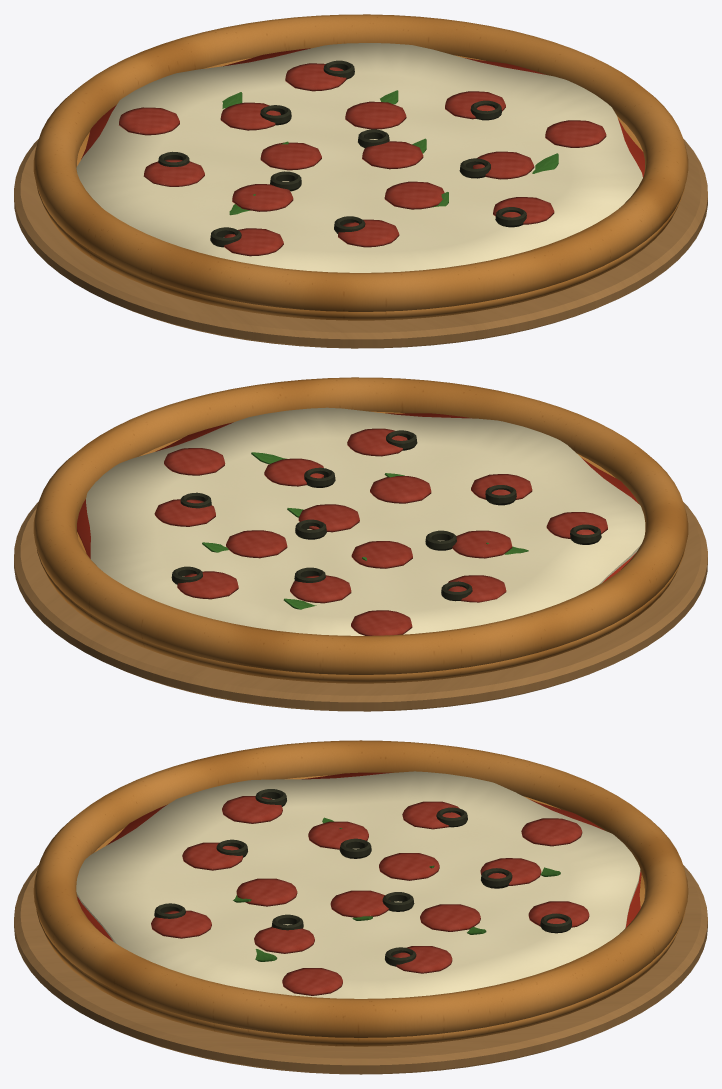
File: pizza.glb
The picture shows the model from 3 angles, top to bottom: view 1: azimuth 30°, elevation 25°; view 2: azimuth 150°, elevation 25°; view 3: azimuth 270°, elevation 25°; orthographic projection.
Parts seen in each view (by area): view 1: Melted uneven mozzarella layer, Puffy browned outer pizza crust, Round finite hardwood pizza board, Pizza baked bread base, Spread tomato sauce layer, Pepperoni round 4, Pepperoni round 15, Pepperoni round 14, Pepperoni round 2, Pepperoni round 5, Pepperoni round 3, Pepperoni round 1 (+8 smaller); view 2: Melted uneven mozzarella layer, Puffy browned outer pizza crust, Round finite hardwood pizza board, Pizza baked bread base, Spread tomato sauce layer, Pepperoni round 4, Pepperoni round 3, Pepperoni round 14, Pepperoni round 2, Pepperoni round 5, Pepperoni round 15, Pepperoni round 7 (+10 smaller); view 3: Melted uneven mozzarella layer, Puffy browned outer pizza crust, Round finite hardwood pizza board, Pizza baked bread base, Spread tomato sauce layer, Pepperoni round 15, Pepperoni round 4, Pepperoni round 14, Pepperoni round 2, Pepperoni round 3, Pepperoni round 1, Pepperoni round 6 (+10 smaller).
Boxes of the visible parts, left/top/right/bottom form: Melted uneven mozzarella layer: left=76, top=43, right=642, bottom=272; Puffy browned outer pizza crust: left=33, top=14, right=688, bottom=311; Round finite hardwood pizza board: left=14, top=139, right=707, bottom=348; Pizza baked bread base: left=36, top=55, right=685, bottom=320; Spread tomato sauce layer: left=81, top=48, right=644, bottom=177; Pepperoni round 4: left=345, top=101, right=406, bottom=129; Pepperoni round 15: left=119, top=107, right=179, bottom=135; Pepperoni round 14: left=545, top=120, right=606, bottom=147; Pepperoni round 2: left=260, top=142, right=321, bottom=170; Pepperoni round 5: left=232, top=184, right=293, bottom=211; Pepperoni round 3: left=384, top=181, right=444, bottom=209; Pepperoni round 1: left=362, top=141, right=423, bottom=169; Melted uneven mozzarella layer: left=86, top=407, right=645, bottom=635; Puffy browned outer pizza crust: left=33, top=377, right=688, bottom=674; Round finite hardwood pizza board: left=14, top=502, right=707, bottom=711; Pizza baked bread base: left=36, top=411, right=685, bottom=683; Spread tomato sauce layer: left=77, top=413, right=638, bottom=582; Pepperoni round 4: left=226, top=530, right=287, bottom=558; Pepperoni round 3: left=370, top=476, right=431, bottom=503; Pepperoni round 14: left=164, top=448, right=225, bottom=475; Pepperoni round 2: left=351, top=541, right=412, bottom=568; Pepperoni round 5: left=452, top=530, right=512, bottom=558; Pepperoni round 15: left=351, top=610, right=412, bottom=635; Pepperoni round 7: left=290, top=575, right=351, bottom=603; Melted uneven mozzarella layer: left=76, top=771, right=640, bottom=998; Puffy browned outer pizza crust: left=33, top=740, right=688, bottom=1037; Round finite hardwood pizza board: left=14, top=865, right=707, bottom=1074; Pizza baked bread base: left=36, top=775, right=685, bottom=1046; Spread tomato sauce layer: left=77, top=772, right=641, bottom=941; Pepperoni round 15: left=521, top=818, right=582, bottom=846; Pepperoni round 4: left=420, top=904, right=480, bottom=931; Pepperoni round 14: left=282, top=968, right=342, bottom=995; Pepperoni round 2: left=379, top=853, right=439, bottom=880; Pepperoni round 3: left=236, top=878, right=297, bottom=906; Pepperoni round 1: left=330, top=890, right=389, bottom=917; Pepperoni round 6: left=254, top=927, right=314, bottom=953.
Bounding box in the file's own units: 0.32 × 0.03 × 0.32.
Materials: 7 (7 with a texture image).
